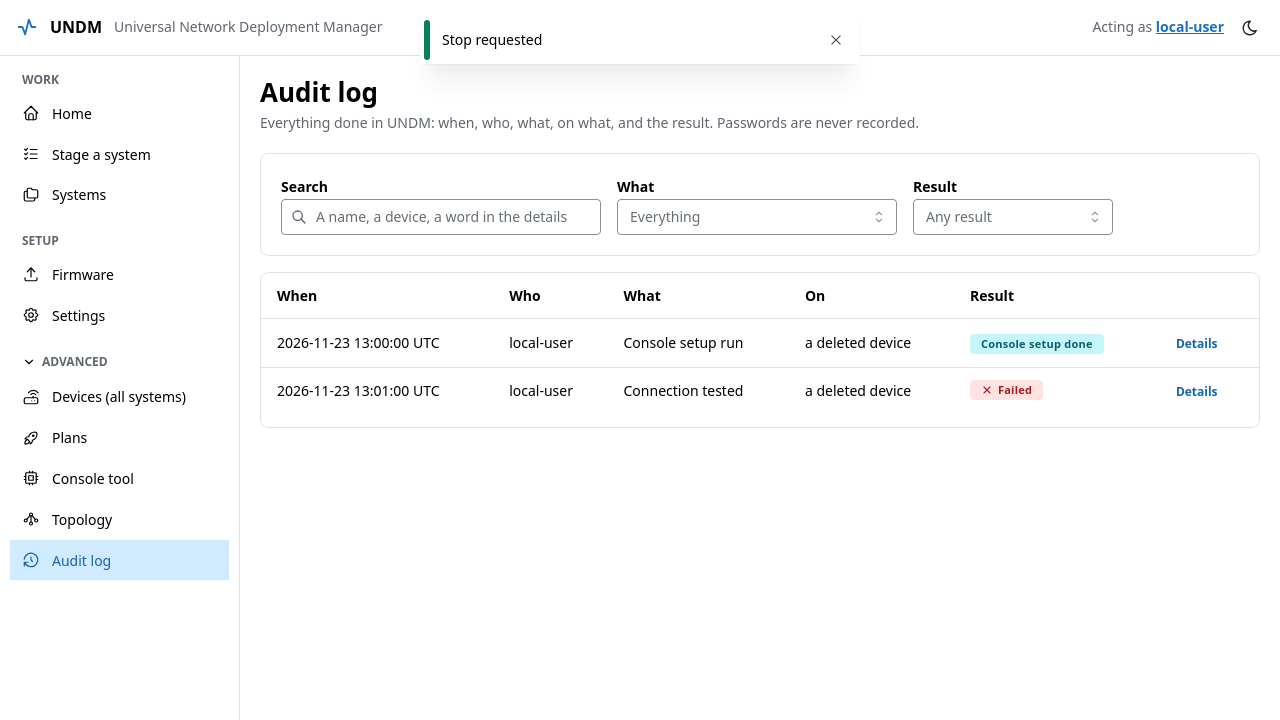
Scenario: audit trail › shows every detail of an entry and filters on details
The width and height of the screenshot is (1280, 720).
Check: the cell "Console setup run" is shown, box [608,319,789,367]
Check: the cell "Connection tested" is shown, box [608,367,789,415]
Type "first_login" into the field labelled "Search" at x=441, y=217, box [281,199,601,235]
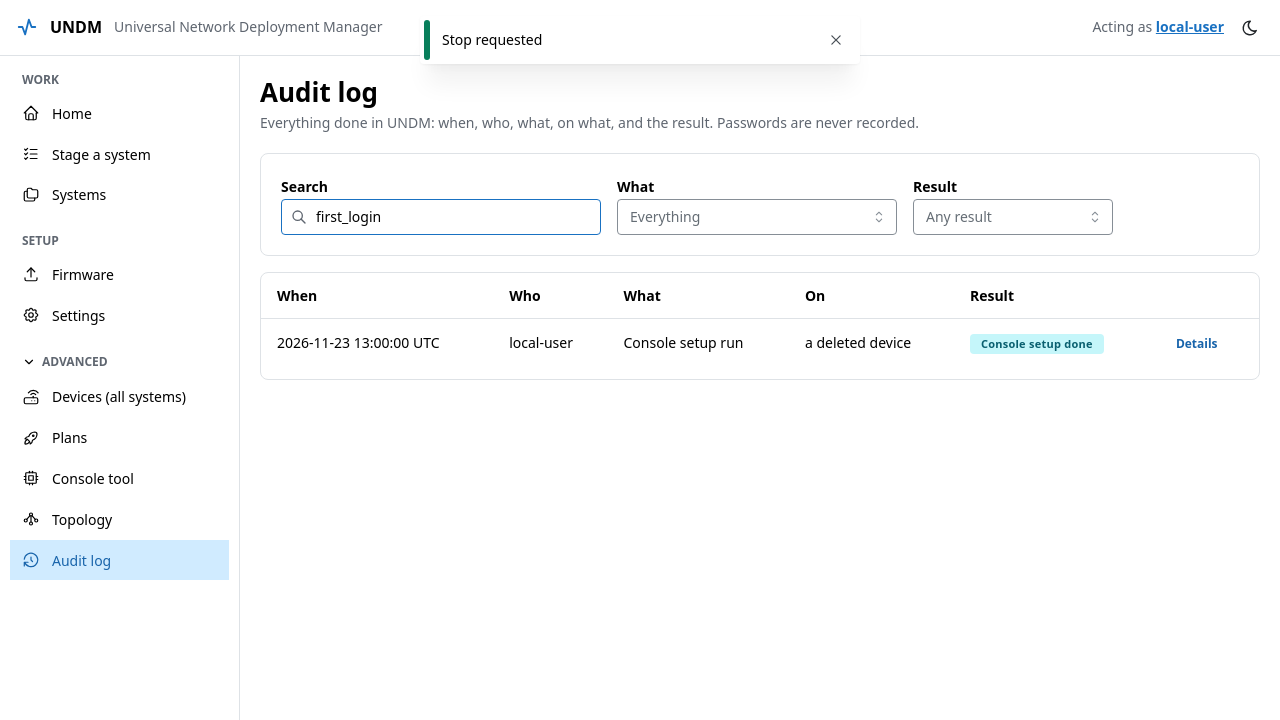
Check: the text "Connection tested" is gone
Click the button with aria-label "Details of Console setup run" at x=1197, y=344, box [1168,332,1226,354]
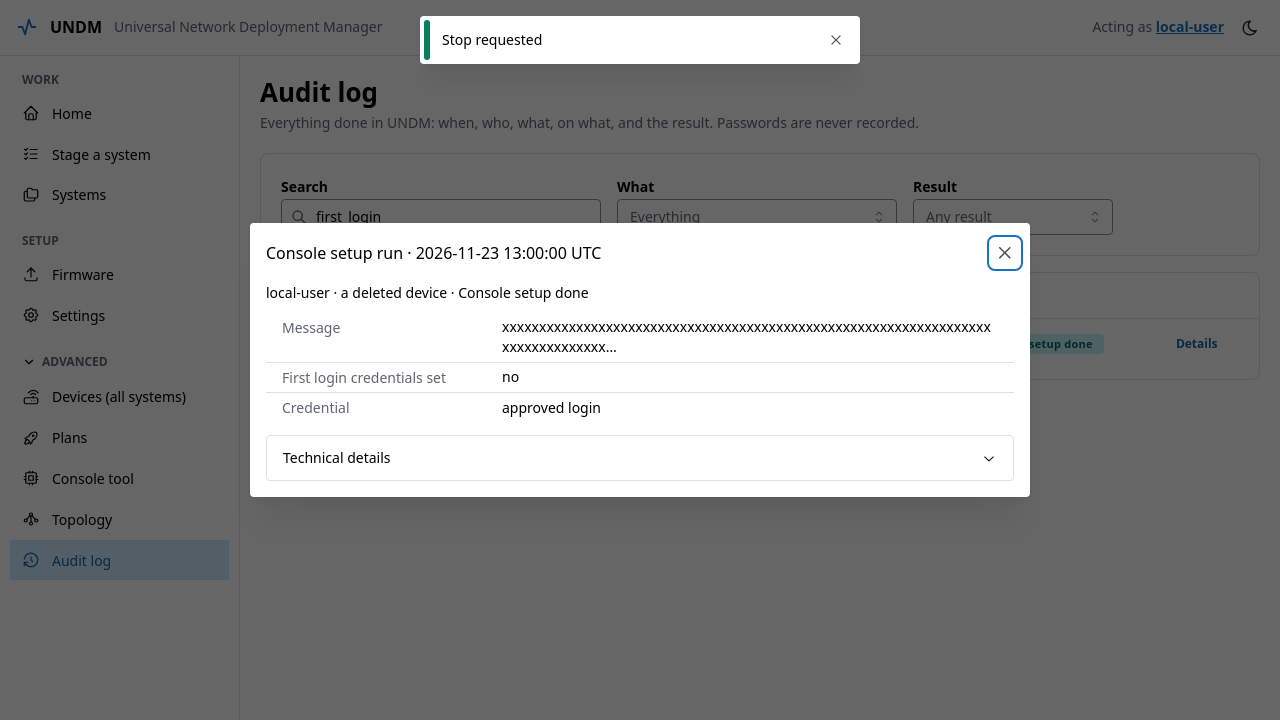
Check: the column heading "First login credentials set" is shown, box [266,362,486,393]
Check: the text "approved login" is shown, box [502,398,601,417]
Check: the text "no" is shown, box [502,367,519,386]
